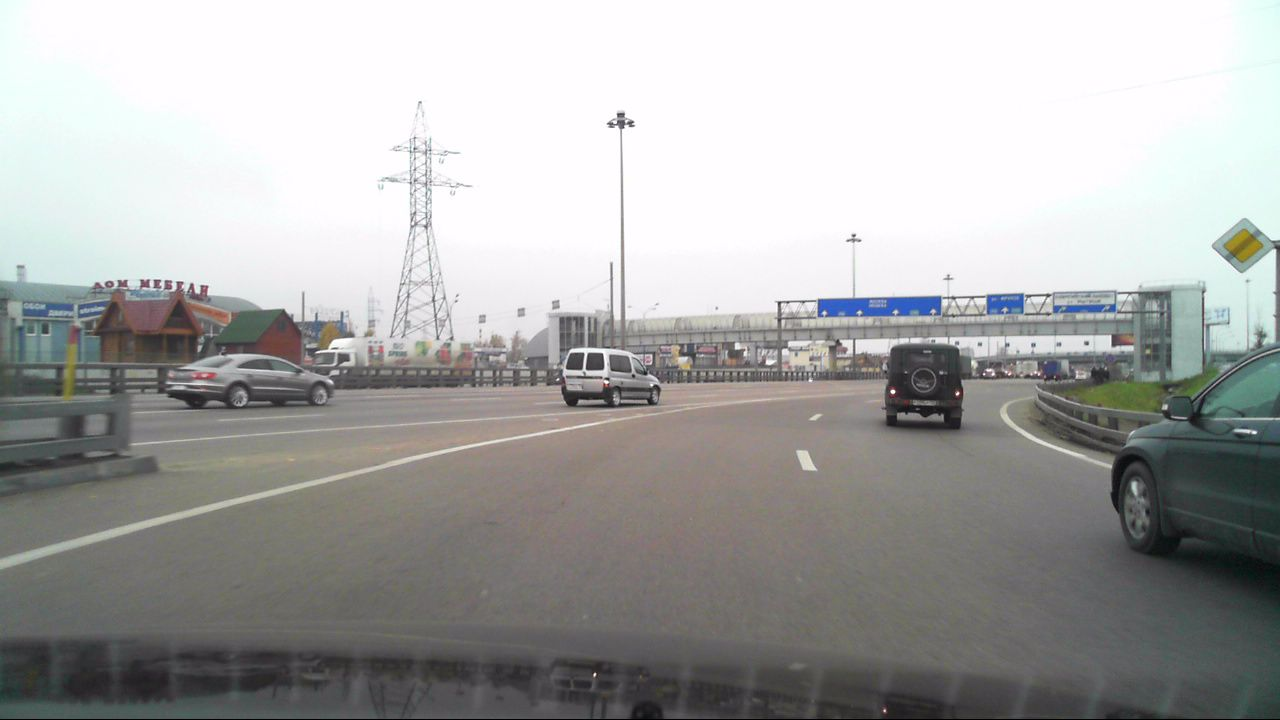main road: (1212, 215, 1272, 274)
